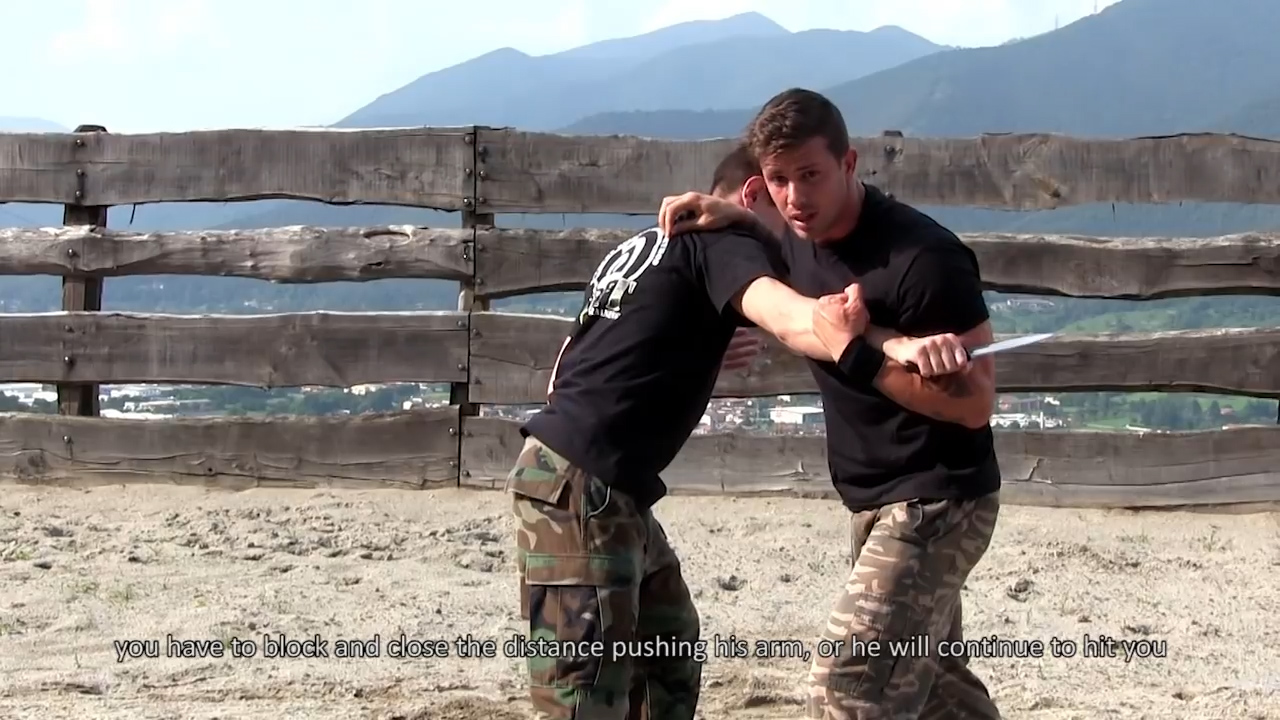knife: (892, 320, 1065, 381)
